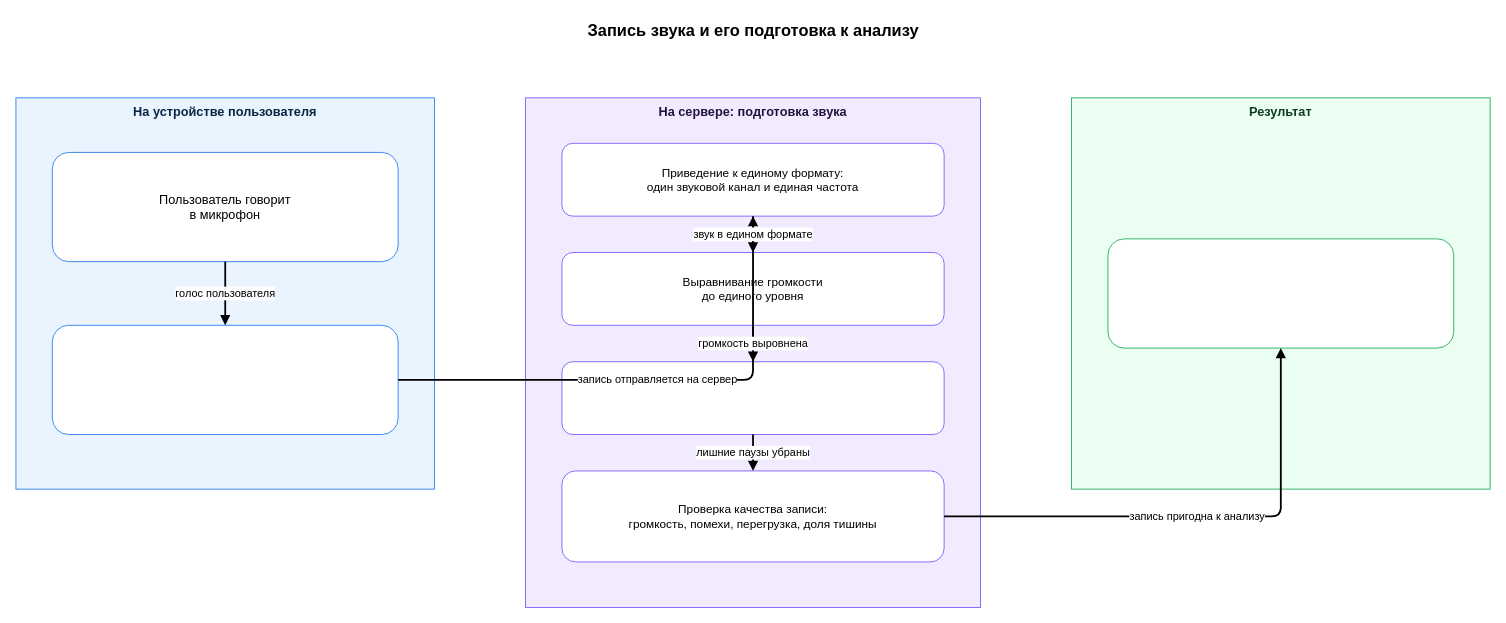
This 1506x623 diagram has some shape labels left out. The centre of each missing label's shape, as x and y in pixels:
"Браузер записывает и сохраняет звук" belongs at [224,379].
"Удаление тишины и пауз по краям записи" belongs at [752,398].
"Чистый звук, готовый к анализу (с пометкой о качестве записи)" belongs at [1280,293].
